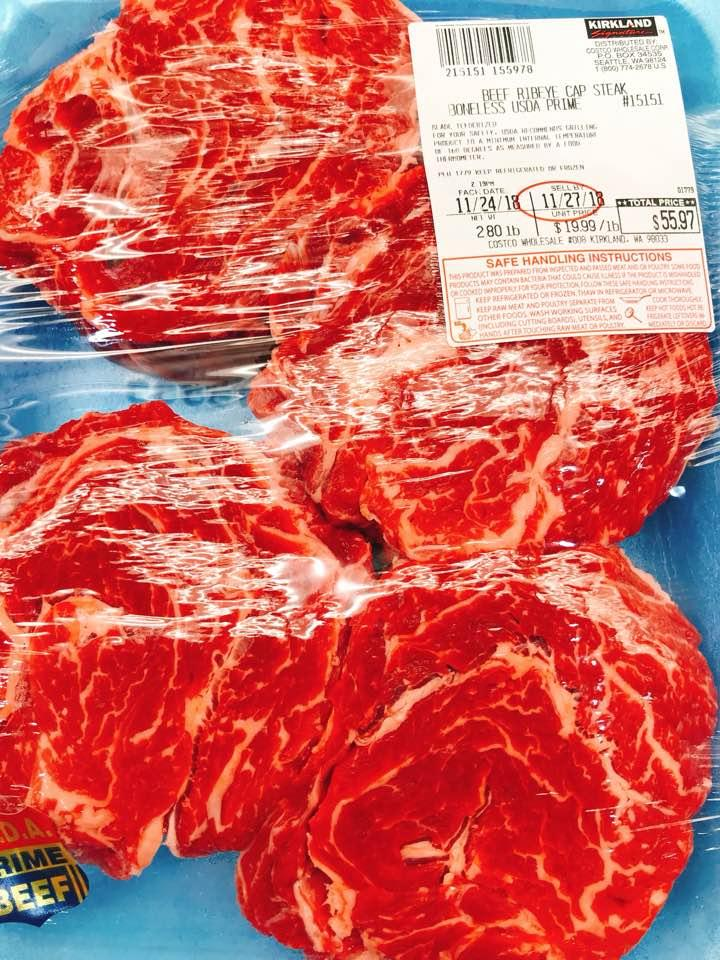beef: (12, 9, 469, 510), (288, 663, 720, 960), (4, 636, 384, 960)
